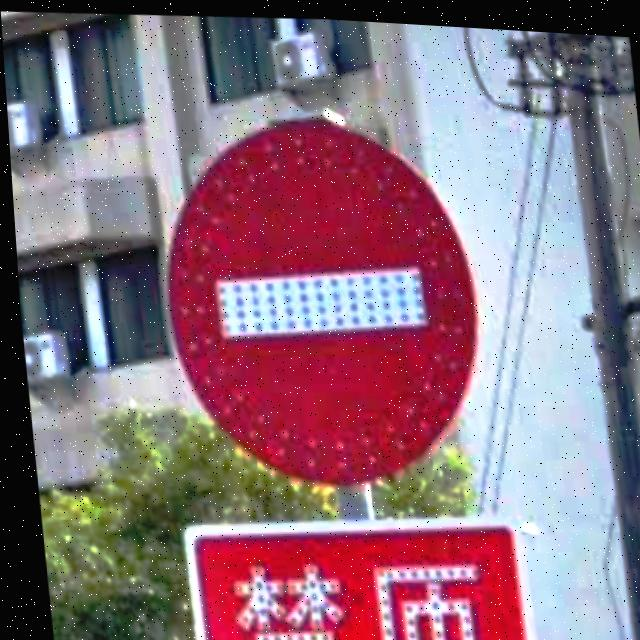noentry: (139, 95, 493, 496)
